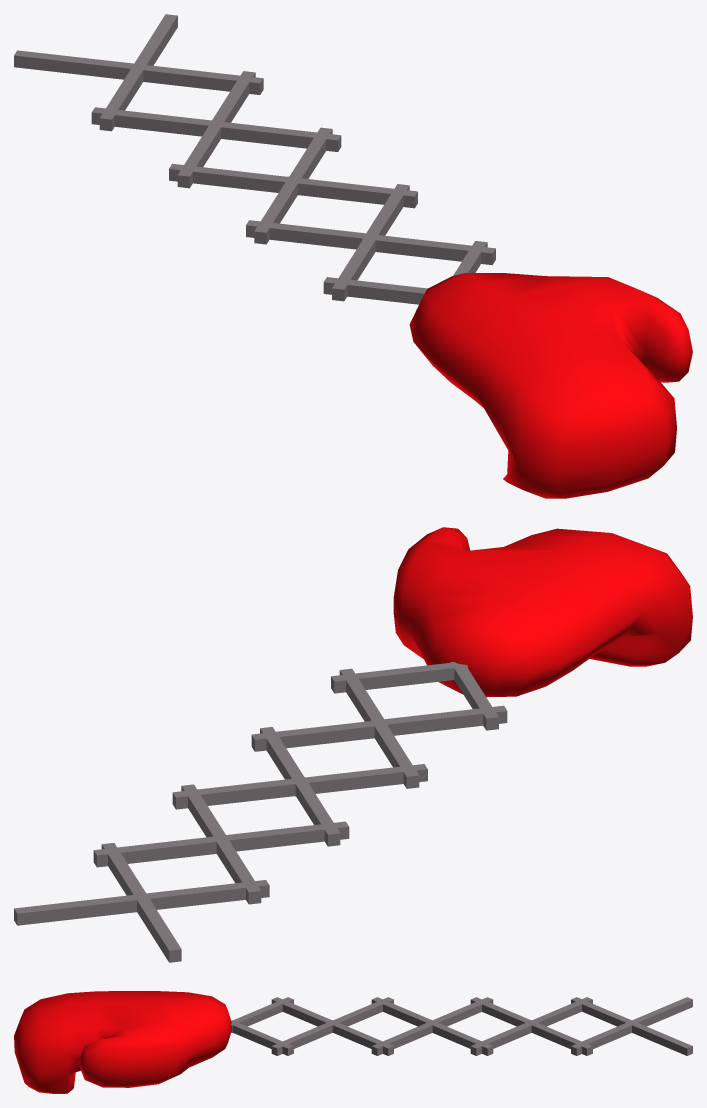
Rendered from boxing.fbx.
3 renders of one model, top to bottom at view 1: azimuth 30°, elevation 25°; view 2: azimuth 150°, elevation 25°; view 3: azimuth 270°, elevation 25°, orthographic. The views are drawn at different scales.
Visible parts, largest first — view 1: boxing; view 2: boxing; view 3: boxing.
Boxes of the visible parts, <box> form: boxing: <box>14,14,692,498</box>; boxing: <box>14,527,692,962</box>; boxing: <box>14,991,692,1093</box>.
Bounding box in the file's own units: 165 × 89.06 × 688.
